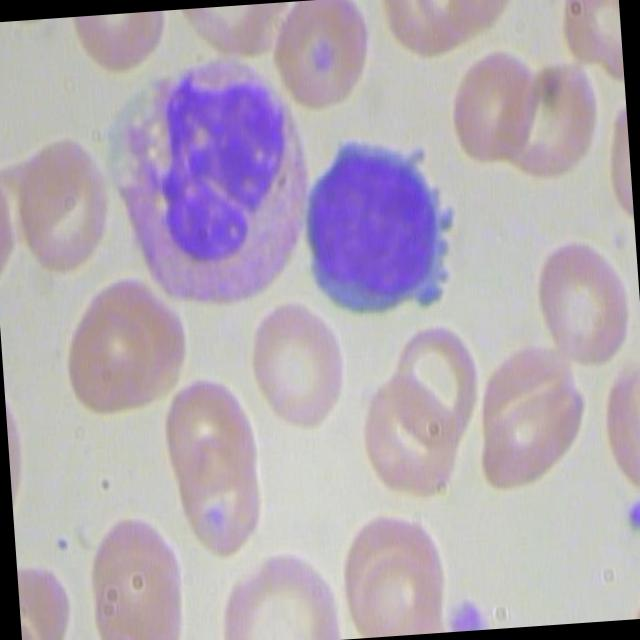Platelets: (615, 489, 640, 534)
RBC: (75, 495, 191, 640), (54, 272, 166, 421), (9, 130, 120, 280), (375, 300, 486, 449), (240, 293, 354, 437), (524, 225, 634, 368), (333, 507, 450, 638), (154, 369, 266, 490), (444, 40, 545, 172), (265, 0, 377, 115), (205, 548, 343, 640)
WBC: (88, 44, 322, 326), (292, 125, 459, 328)
